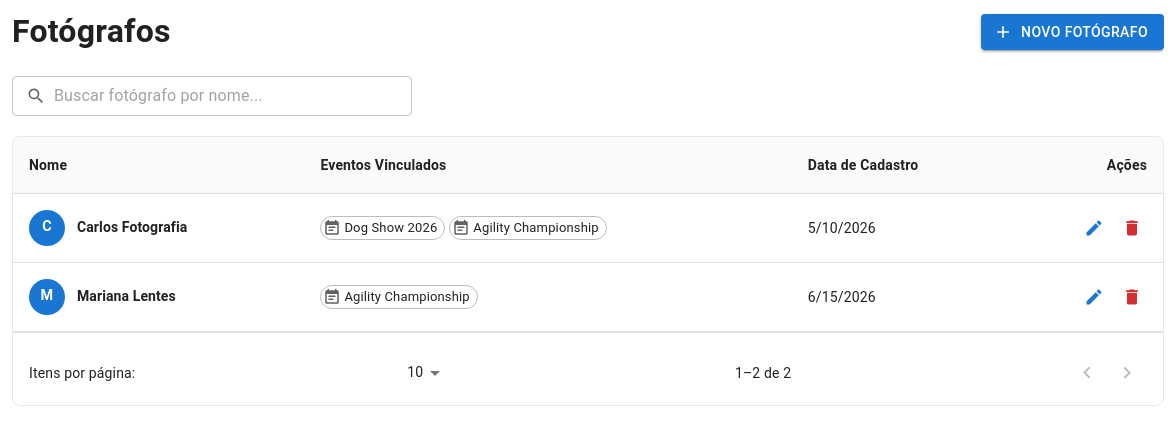
PhotographersPage › filters photographers by name using search input
Expected: the heading "Carlos Fotografia" is shown, 77,216 -> 187,238
Expected: the heading "Mariana Lentes" is shown, 77,286 -> 176,308
In the field with placeholder "Buscar fotógrafo por nome...": (233, 96) 54,76 -> 412,116, type "Mariana"
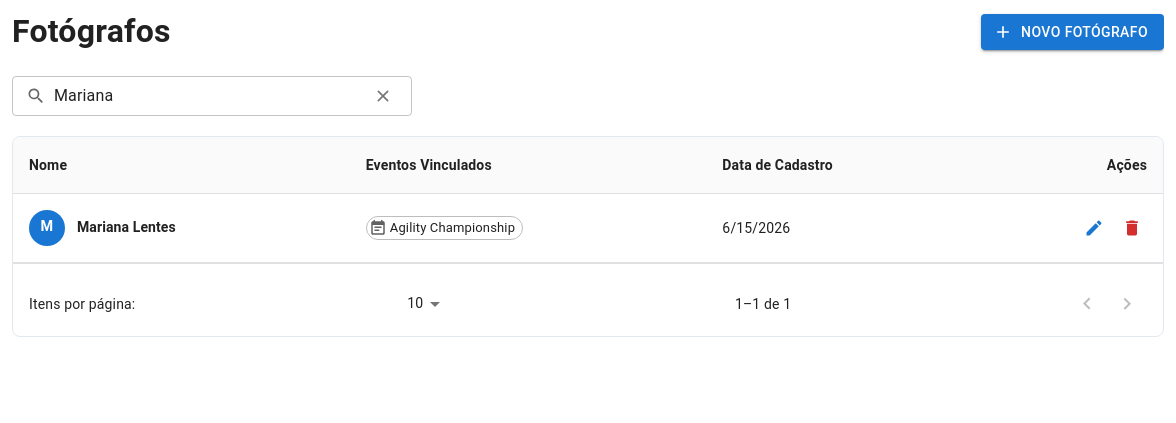
Expected: the heading "Mariana Lentes" is shown, 77,216 -> 176,238
Expected: the heading "Carlos Fotografia" is gone
Click the button named "Cancelar": (383, 96) 368,80 -> 398,110
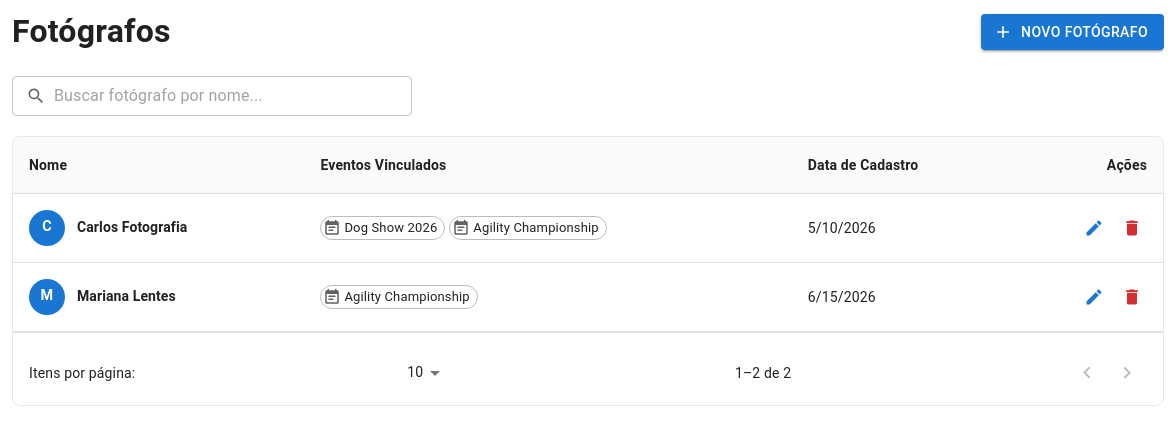
Expected: the heading "Mariana Lentes" is shown, 77,286 -> 176,308
Expected: the heading "Carlos Fotografia" is shown, 77,216 -> 187,238
